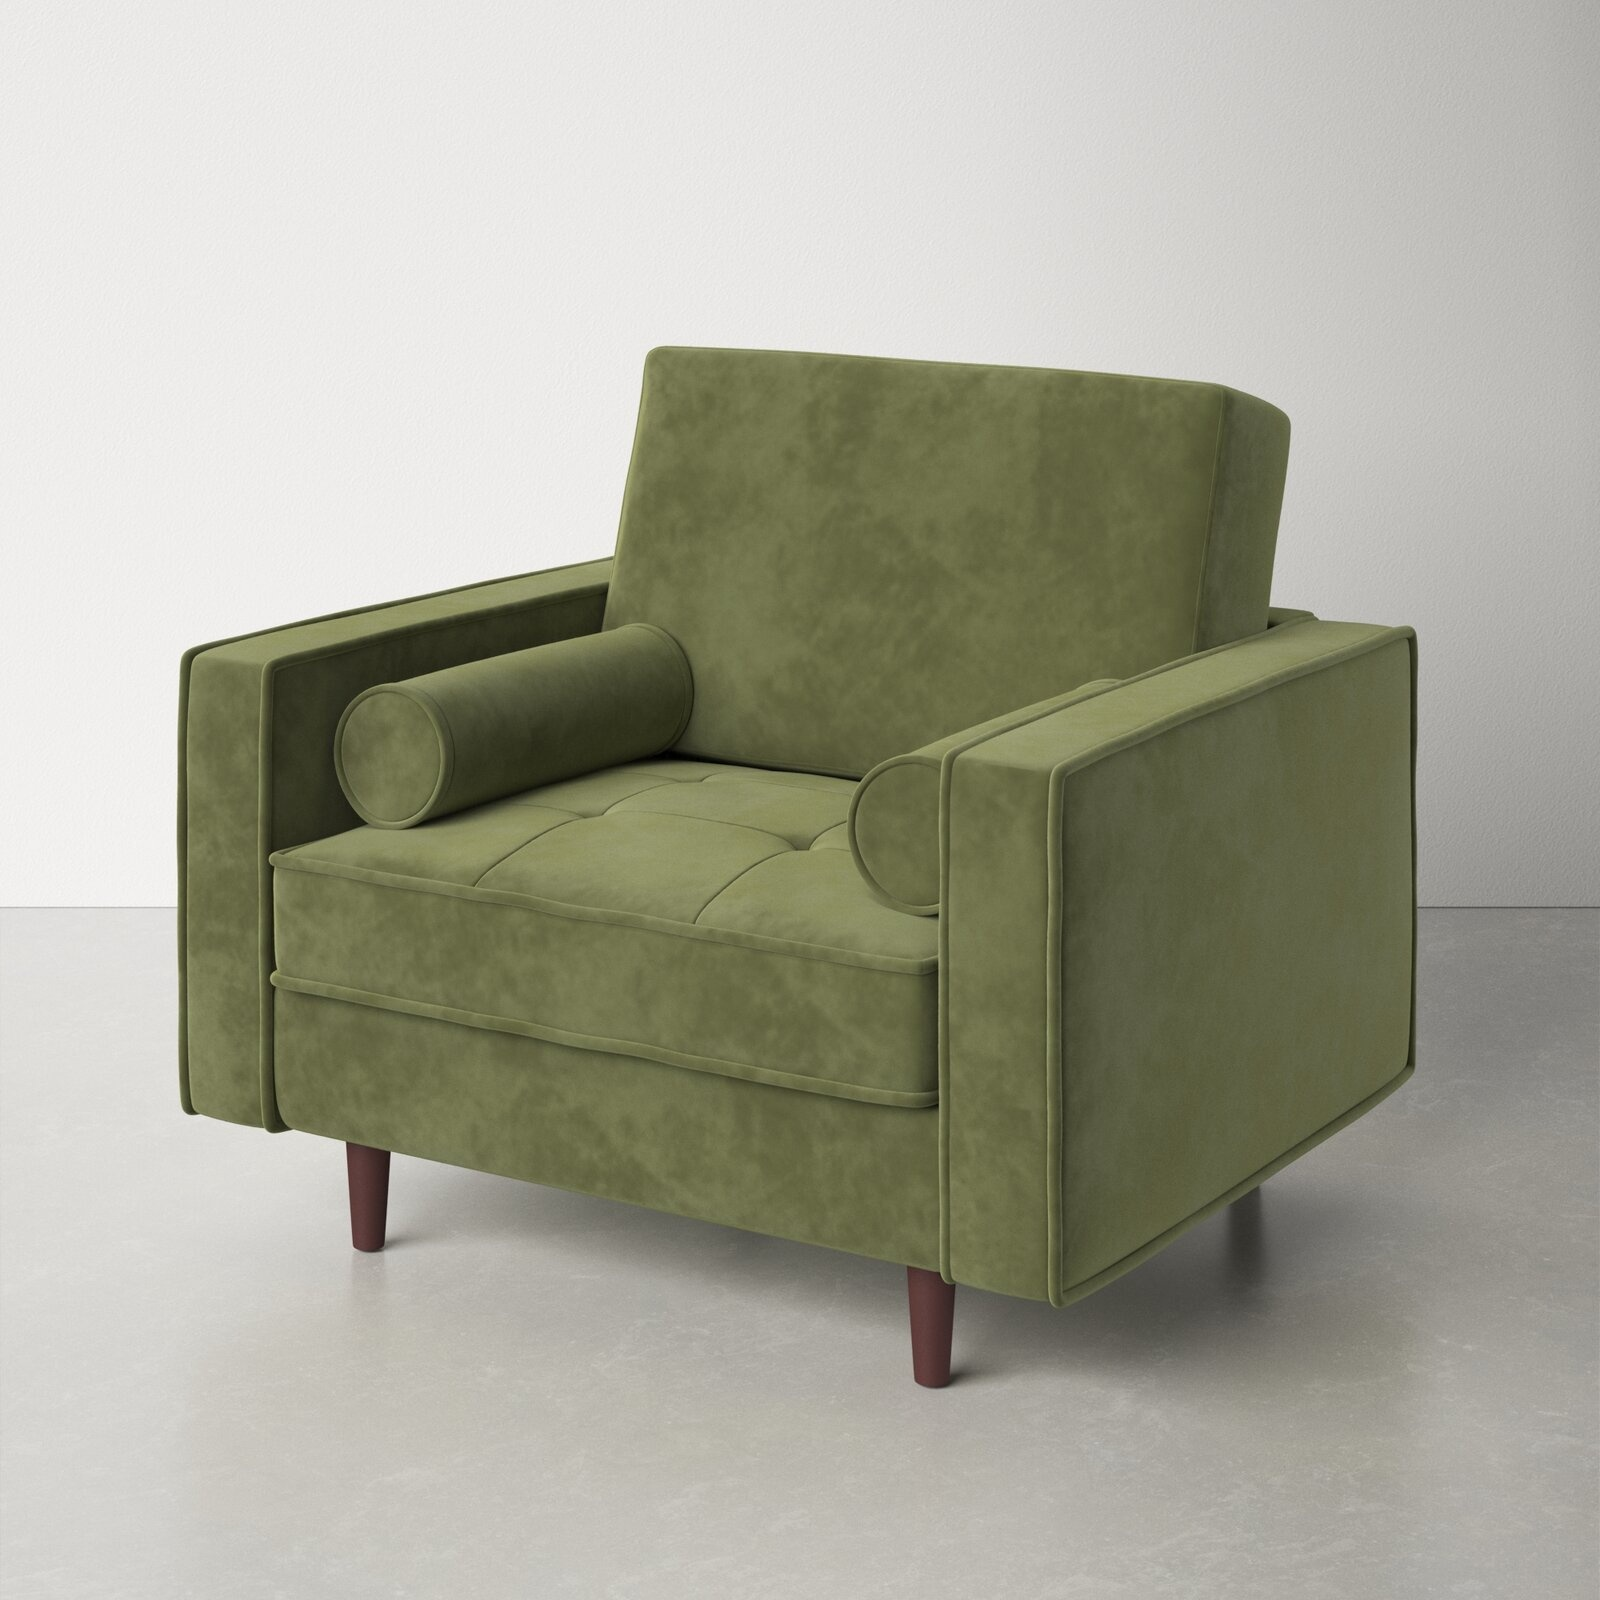obstacle: (182, 349, 1414, 1379)
